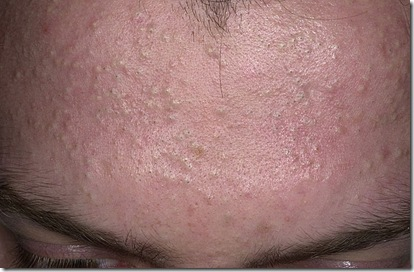jerawat: (6, 10, 414, 210)
